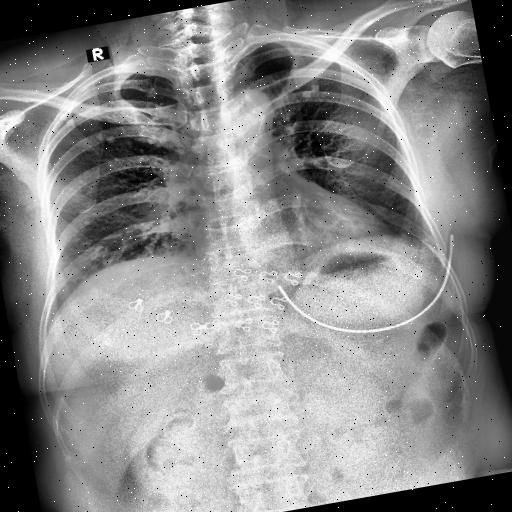0- Aortic enlargement: (212, 80, 276, 150), (215, 84, 275, 138), (220, 85, 275, 133)
3- Cardiomegaly: (190, 196, 392, 284)
